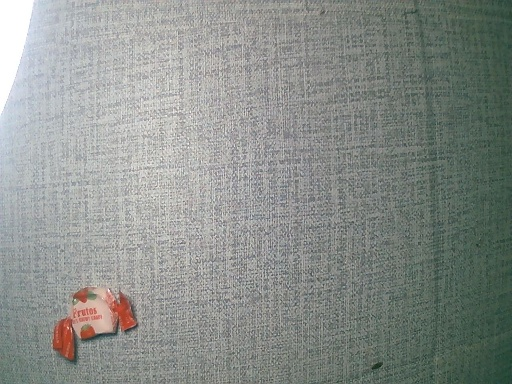plastic: (52, 284, 137, 363)
